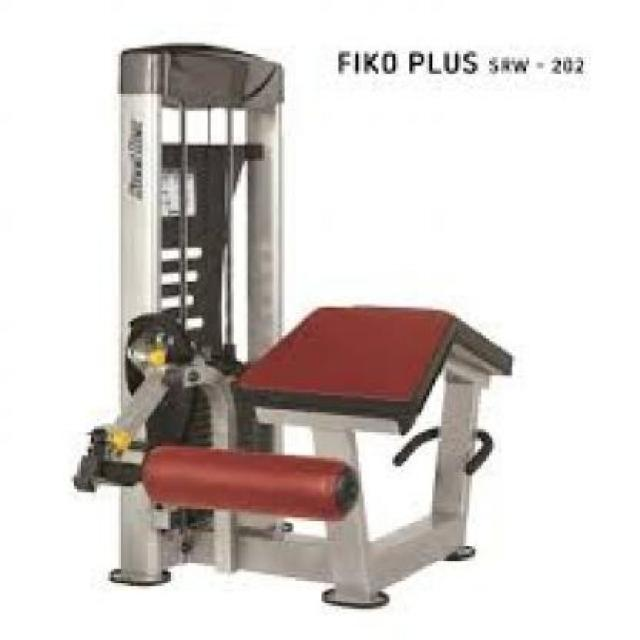reg curl machine: (74, 38, 517, 614)
